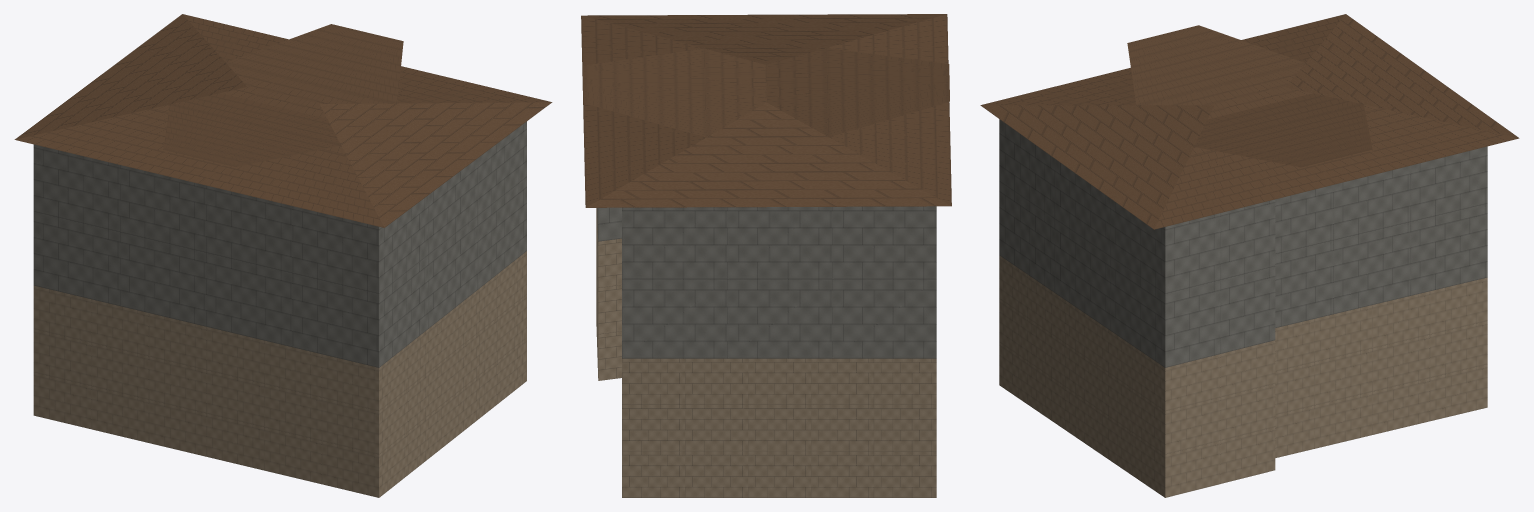
File: bld_c43_44_200.gltf
The picture shows the model from 3 angles, left to right: view 1: azimuth 30°, elevation 25°; view 2: azimuth 150°, elevation 25°; view 3: azimuth 270°, elevation 25°; orthographic projection. The views are drawn at different scales.
Parts seen in each view (by area): view 1: bld_c43_44_200; view 2: bld_c43_44_200; view 3: bld_c43_44_200.
Boxes of the visible parts, bbox=[...] form: bld_c43_44_200: bbox=[14, 14, 552, 497]; bld_c43_44_200: bbox=[581, 14, 951, 497]; bld_c43_44_200: bbox=[980, 14, 1519, 497].
Bounding box in the file's own units: 18.14 × 11.9 × 19.18.
Materials: 3 (3 with a texture image).
